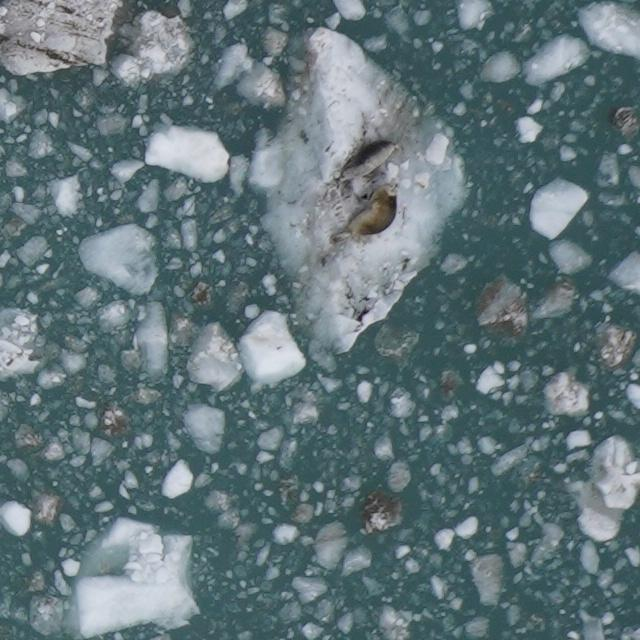seal: (328, 181, 404, 245), (333, 136, 405, 187)
